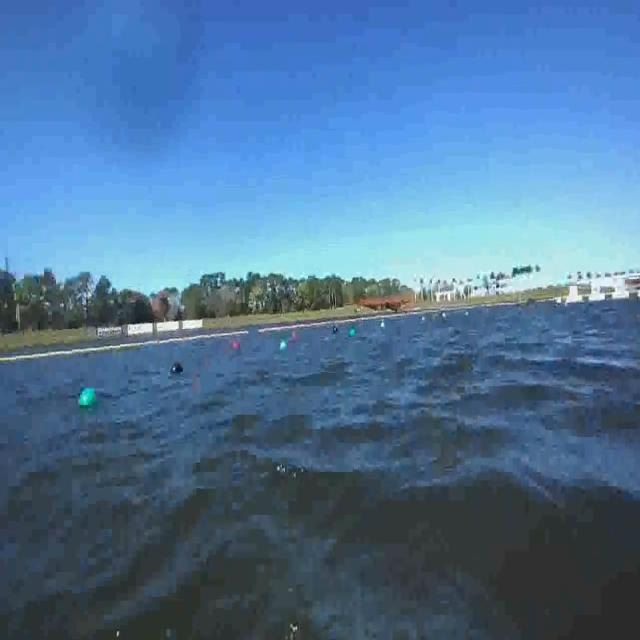black-buoy: (173, 360, 183, 373)
green-buoy: (79, 386, 98, 407), (278, 339, 288, 352)
red-buoy: (231, 338, 240, 349)
